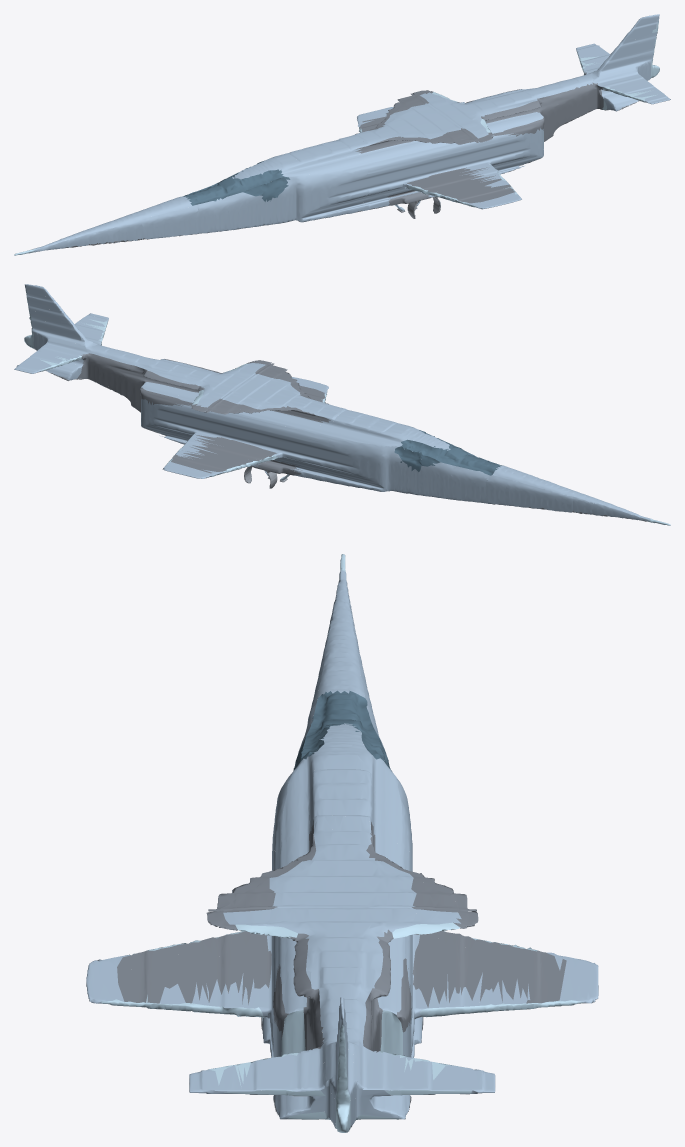
3 renders of one model, top to bottom at view 1: azimuth 30°, elevation 25°; view 2: azimuth 150°, elevation 25°; view 3: azimuth 270°, elevation 25°, orthographic. The views are drawn at different scales.
Parts seen in each view (by area): view 1: forward fuselage right, mid fuselage, mid fuselage right, main wing right, main wing 4, nose fuselage right, forward fuselage, windscreen, horizontal stabilizer, tail cone, canopy, vertical stabilizer right (+14 smaller); view 2: forward fuselage left, mid fuselage, mid fuselage left, main wing left, main wing, nose fuselage left, forward fuselage, windscreen, horizontal stabilizer 4, vertical stabilizer left, canopy, nose fuselage (+13 smaller); view 3: mid fuselage, main wing, main wing 4, rear face, forward fuselage, horizontal stabilizer 4, horizontal stabilizer, main wing right, main wing left, mid fuselage left, canopy, mid fuselage right (+11 smaller).
Boxes of the visible parts, x1,y1,x2,y2 form: forward fuselage right: (39, 108, 608, 251); mid fuselage: (50, 72, 593, 245); mid fuselage right: (364, 128, 543, 209); main wing right: (355, 82, 603, 153); main wing 4: (407, 128, 515, 203); nose fuselage right: (113, 205, 198, 242); forward fuselage: (232, 136, 368, 206); windscreen: (183, 160, 284, 205); horizontal stabilizer: (597, 71, 666, 100); tail cone: (590, 14, 659, 83); canopy: (289, 140, 350, 163); vertical stabilizer right: (601, 37, 653, 73); forward fuselage left: (48, 372, 641, 520); mid fuselage: (86, 344, 342, 479); mid fuselage left: (141, 399, 325, 478); main wing left: (77, 353, 330, 422); main wing: (171, 398, 276, 473); nose fuselage left: (485, 475, 572, 512); forward fuselage: (314, 407, 450, 450); windscreen: (401, 430, 502, 475); horizontal stabilizer 4: (19, 340, 88, 371); vertical stabilizer left: (26, 291, 81, 342); canopy: (332, 410, 396, 433); nose fuselage: (492, 465, 581, 497); mid fuselage: (264, 584, 427, 1046); main wing: (411, 878, 566, 1007); main wing 4: (117, 878, 277, 1004); rear face: (101, 922, 582, 1132); forward fuselage: (281, 723, 402, 845); horizontal stabilizer 4: (350, 1044, 482, 1113); horizontal stabilizer: (202, 1048, 325, 1113); main wing right: (206, 821, 324, 1050); main wing left: (363, 822, 478, 1052); mid fuselage left: (403, 847, 598, 1057); canopy: (309, 769, 381, 824); mid fuselage right: (86, 843, 281, 1057).
Bounding box in the file's own units: 0.1799 × 0.0359 × 0.0618.
